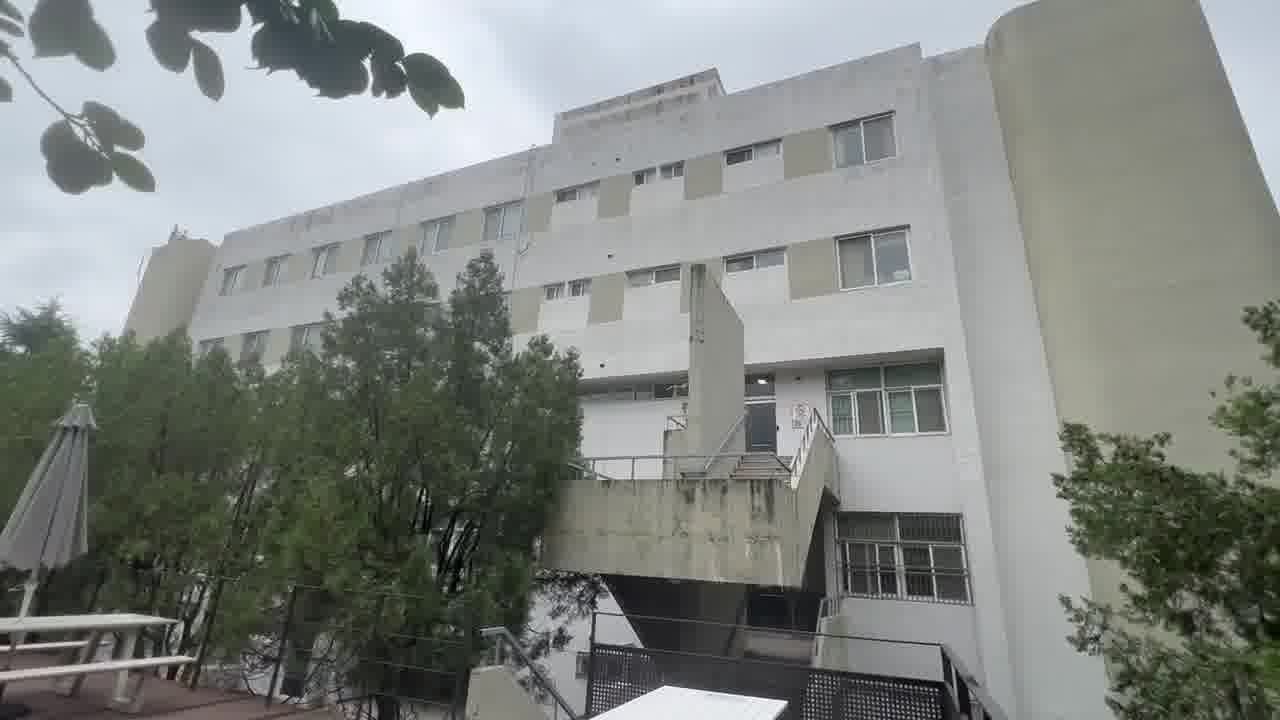low: (583, 80, 1024, 580)
